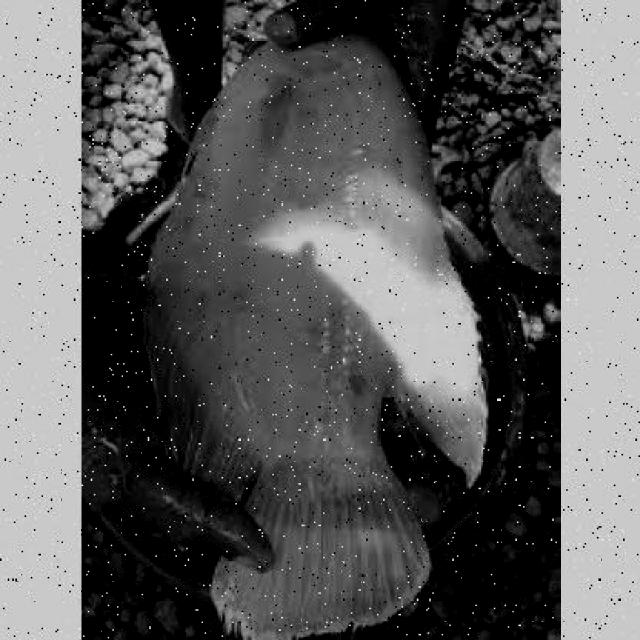gurame: (151, 6, 477, 640)
